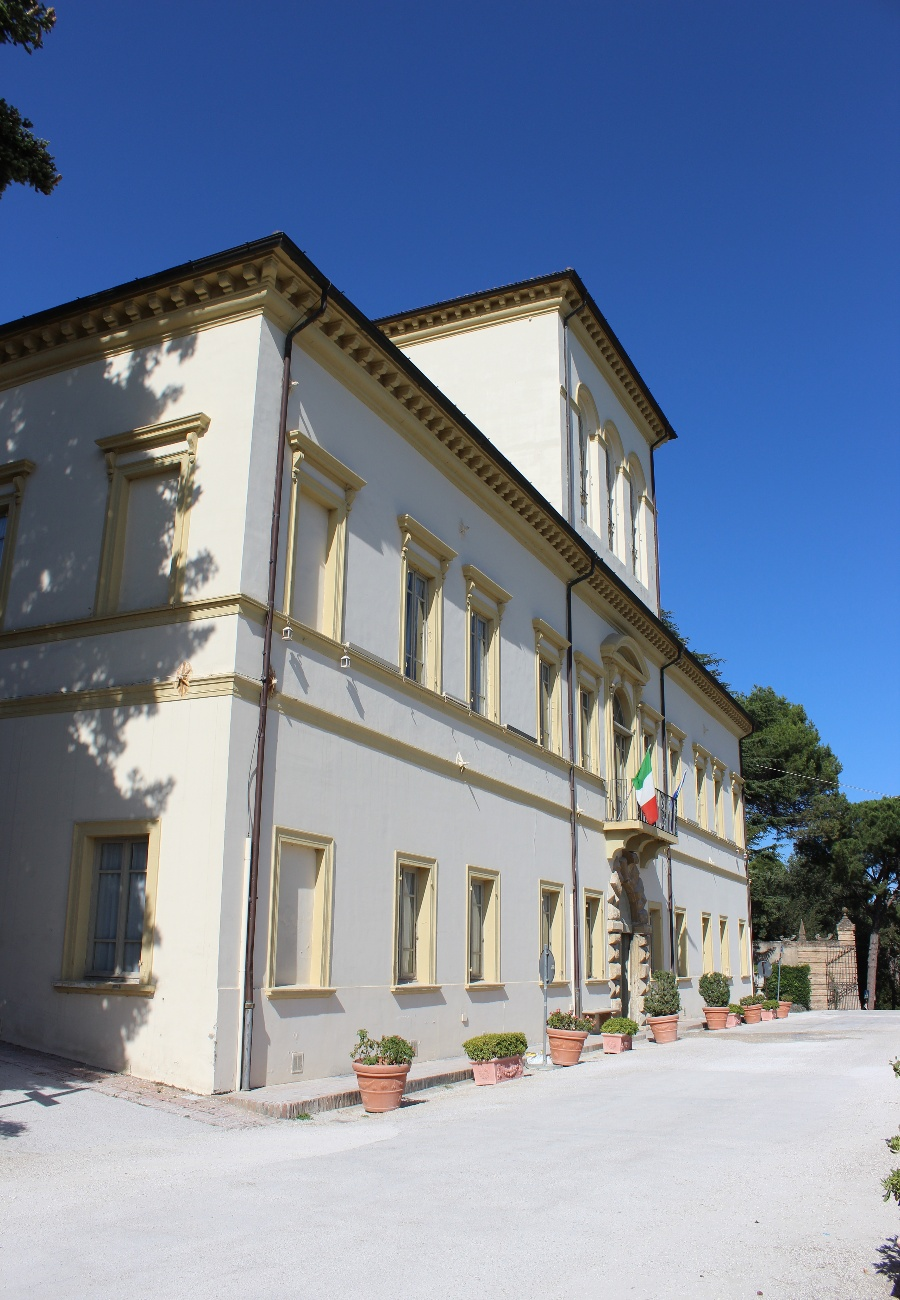Villa Caprile: (267, 234, 759, 1103)
